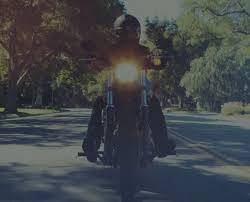motorcycle: (78, 41, 181, 195)
